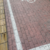others: (6, 1, 50, 50)
